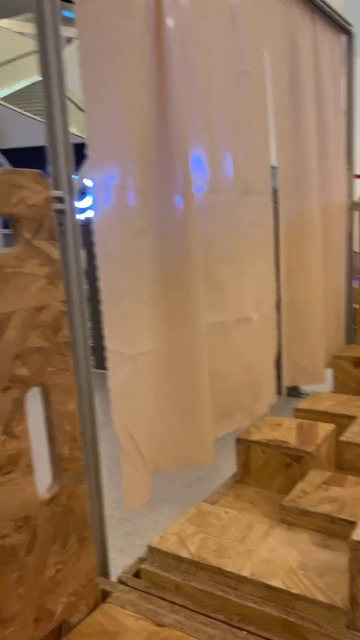curtain: (68, 0, 360, 525)
